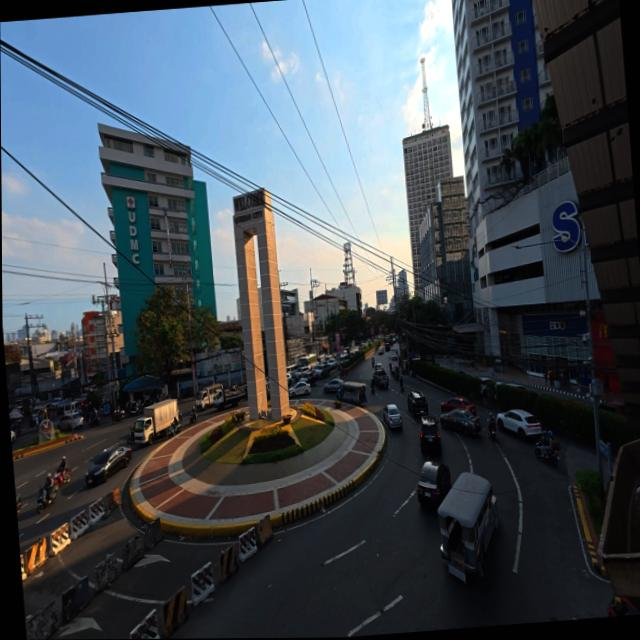Jeepneys: (430, 467, 502, 583)
car: (81, 442, 134, 486), (416, 459, 454, 512), (494, 404, 544, 442), (440, 404, 483, 438), (383, 403, 405, 431), (287, 380, 312, 398), (323, 378, 343, 394)
